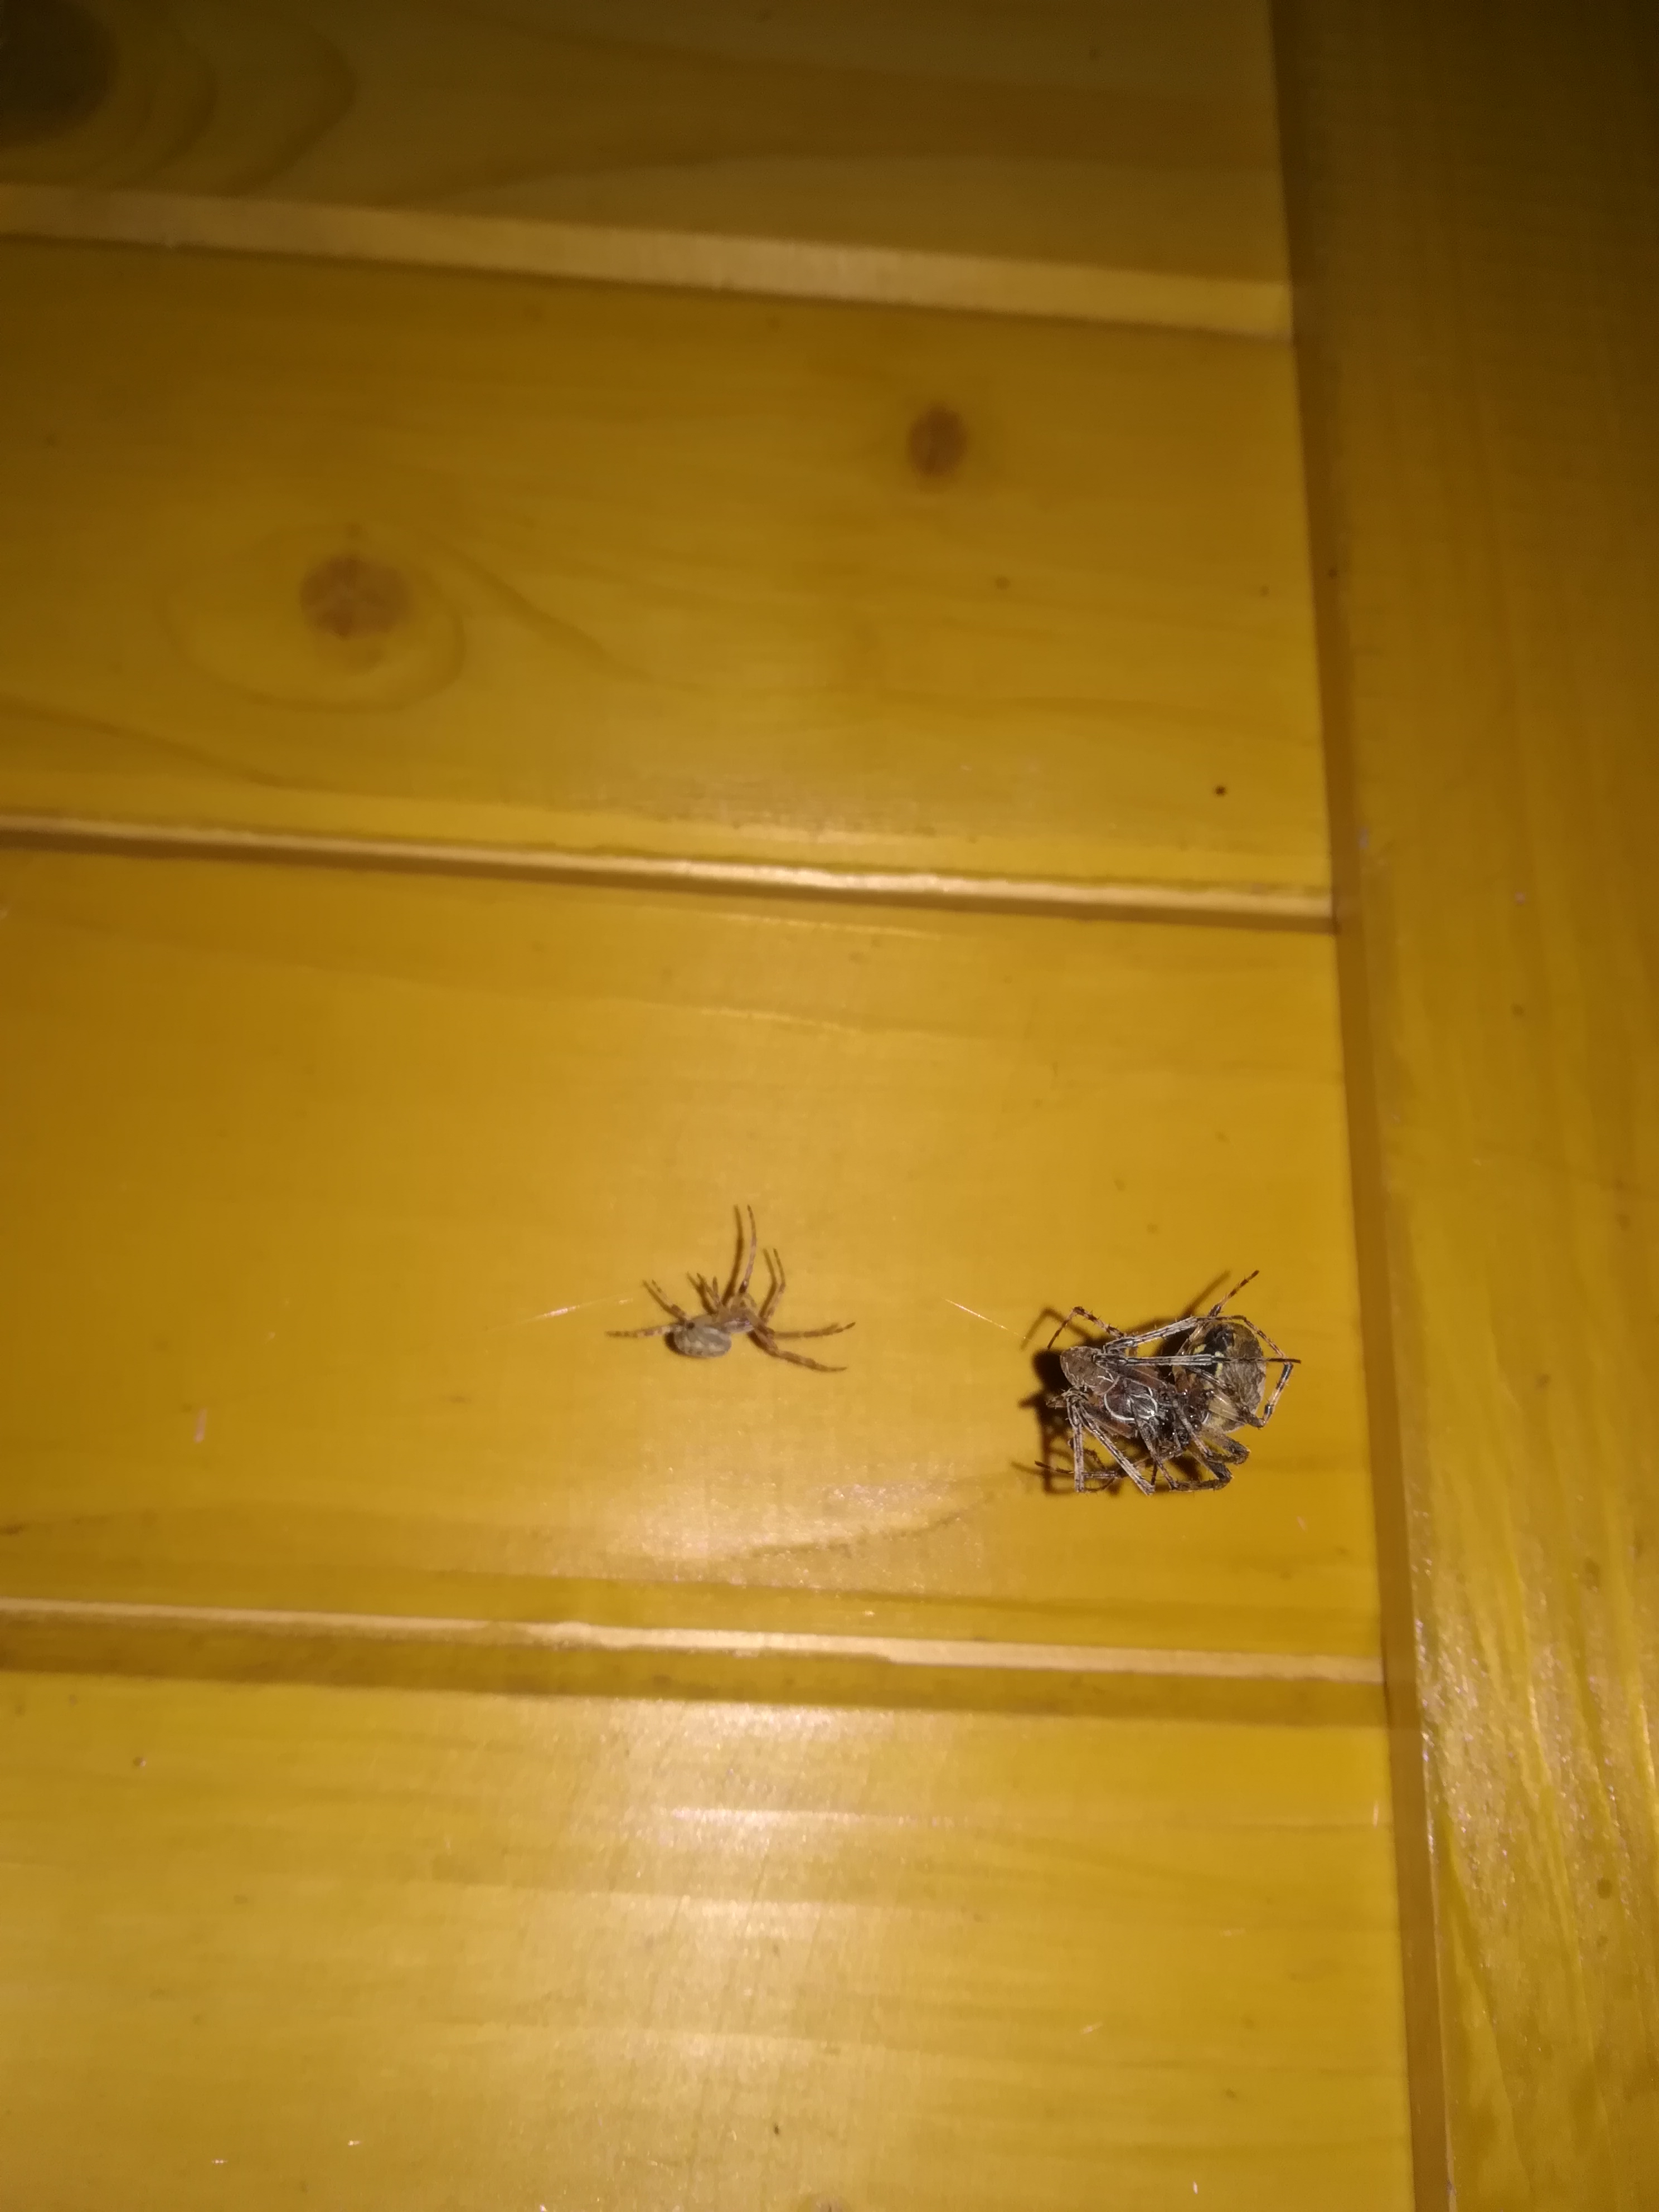spider: (586, 1188, 884, 1404), (978, 1256, 1215, 1505), (1107, 1251, 1345, 1486)
